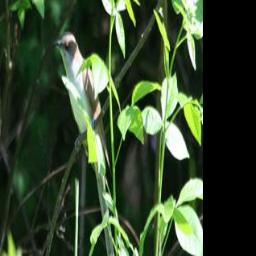Cuckoo: (52, 31, 117, 256)
